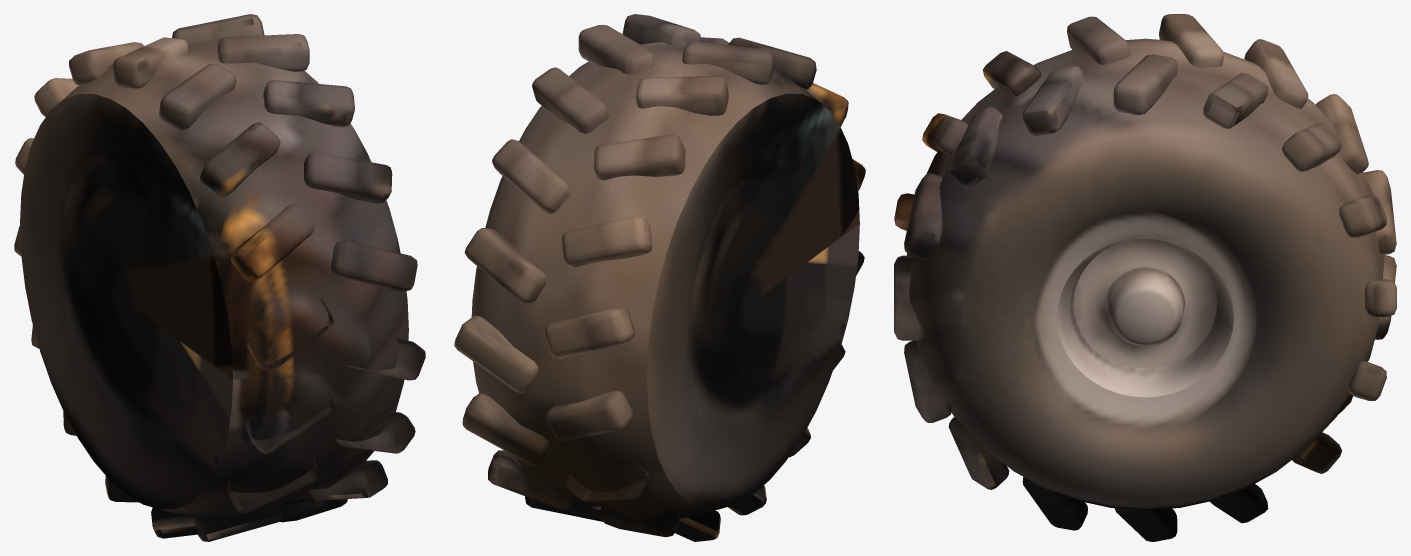
3 renders of one model, left to right at view 1: azimuth 30°, elevation 25°; view 2: azimuth 150°, elevation 25°; view 3: azimuth 270°, elevation 25°, orthographic.
Visible parts, largest first — view 1: wheel_RL; view 2: wheel_RL; view 3: wheel_RL.
Part boxes in pixels (<box>): wheel_RL: <box>14,14,425,541</box>; wheel_RL: <box>454,14,865,541</box>; wheel_RL: <box>894,14,1396,541</box>.
Bounding box in the file's own units: 0.209 × 0.472 × 0.472.
1 material, 1 textured.
